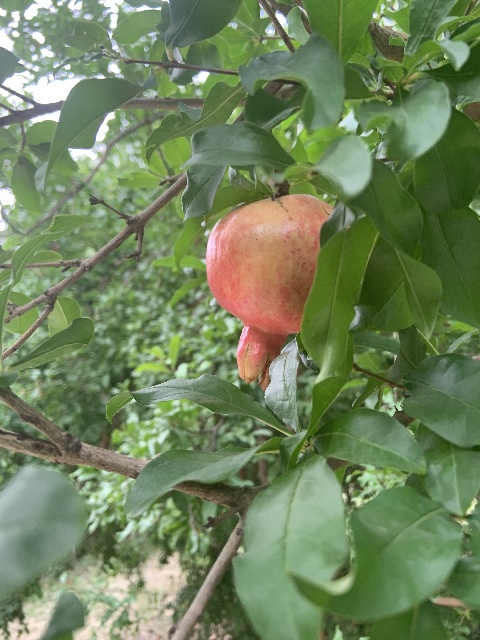ripe: (205, 195, 332, 391)
